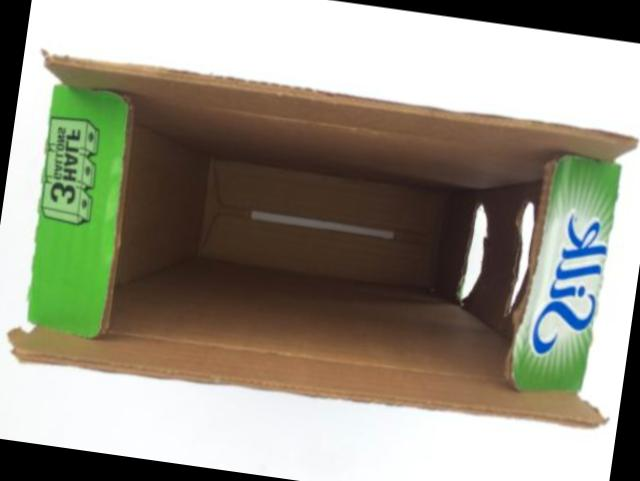cardboard paper: (10, 51, 637, 424)
